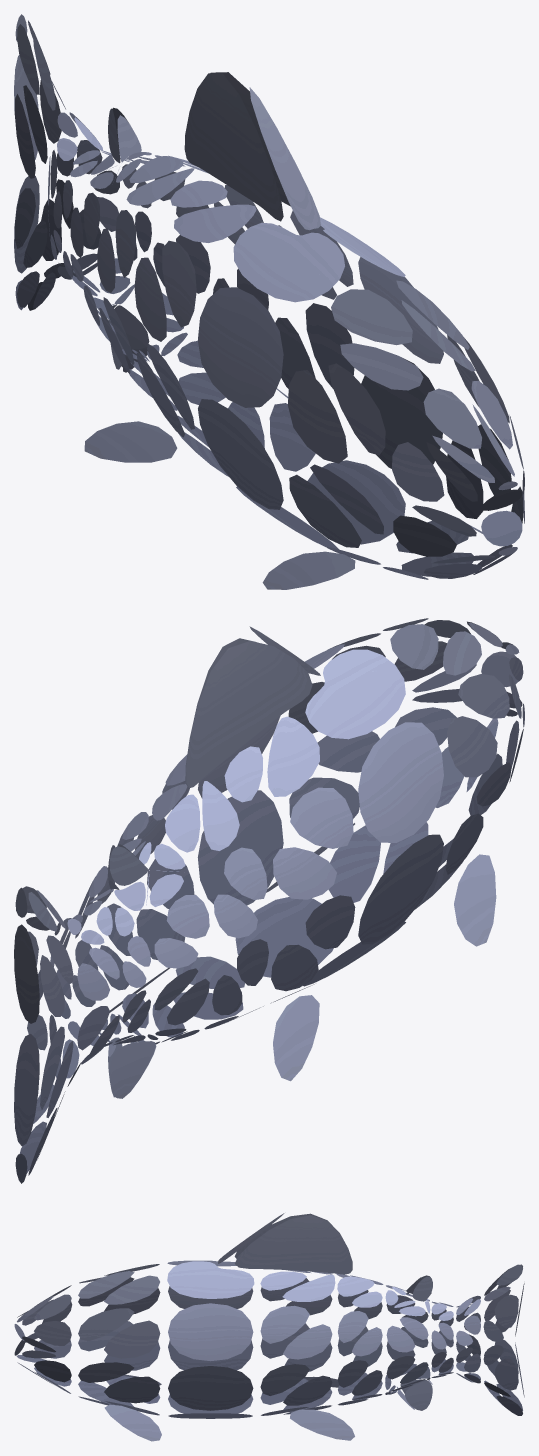
Rendered from fish.glb.
3 views of the same model, one above another, from view 1: azimuth 30°, elevation 25°; view 2: azimuth 150°, elevation 25°; view 3: azimuth 270°, elevation 25° (orthographic). The views are drawn at different scales.
Visible parts, largest first — view 1: fish; view 2: fish; view 3: fish.
Boxes of the visible parts, bbox=[...] form: fish: bbox=[14, 14, 524, 589]; fish: bbox=[14, 618, 524, 1183]; fish: bbox=[14, 1213, 524, 1441].
Bounding box in the file's own units: 0.1613 × 0.2757 × 0.6208.
1 material, 1 textured.
